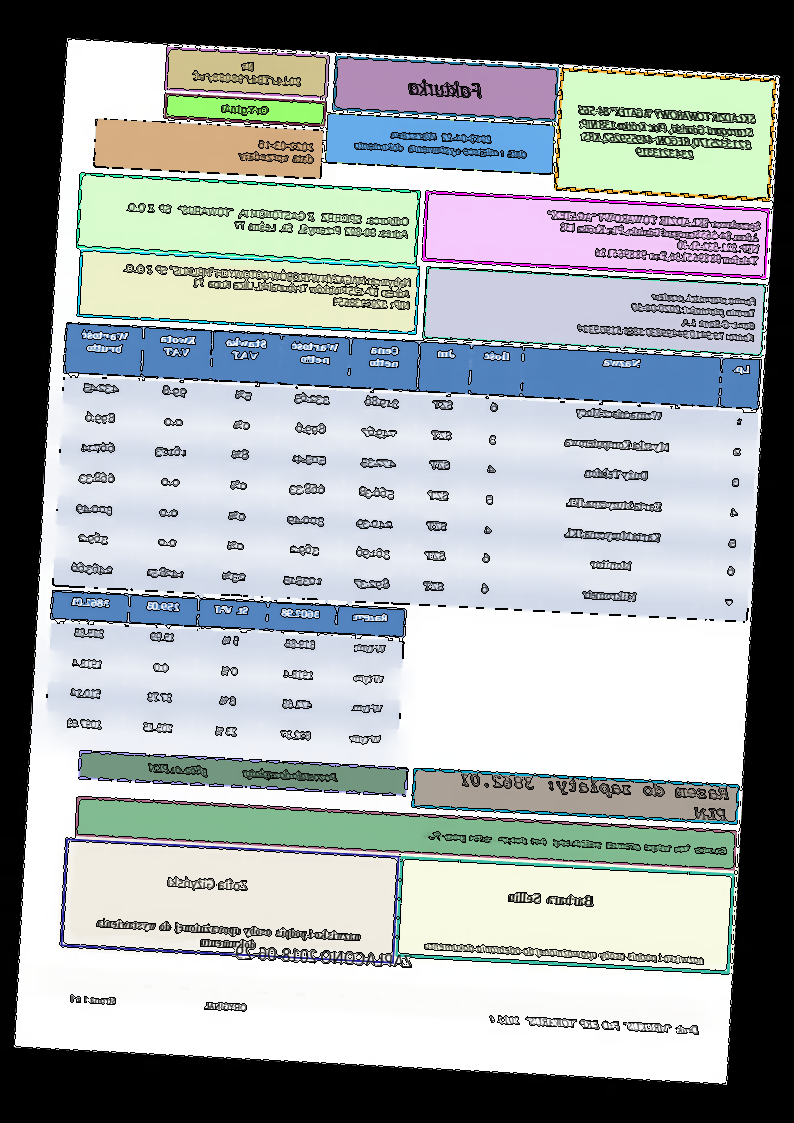Table: (52, 322, 763, 623), (44, 589, 407, 759)
TextBox: (122, 261, 414, 312), (459, 773, 731, 823), (545, 208, 764, 268), (121, 200, 411, 242), (575, 102, 759, 166), (575, 285, 759, 346), (94, 917, 363, 956), (419, 829, 729, 858), (423, 938, 707, 968), (352, 125, 530, 162), (487, 1012, 701, 1037), (144, 761, 341, 785), (234, 945, 415, 971), (68, 992, 249, 1014), (190, 56, 305, 88), (236, 136, 317, 167), (407, 78, 485, 101), (165, 874, 251, 894), (508, 890, 596, 908), (218, 101, 271, 118)
